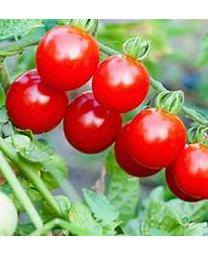cherry: (36, 26, 98, 88), (5, 68, 66, 131), (127, 100, 184, 167), (64, 89, 120, 153), (93, 53, 150, 111), (173, 140, 206, 199)
